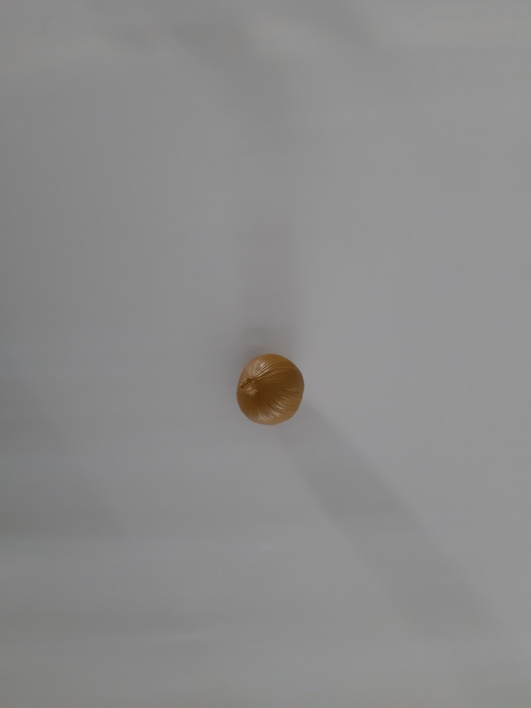onion: (210, 341, 323, 437)
